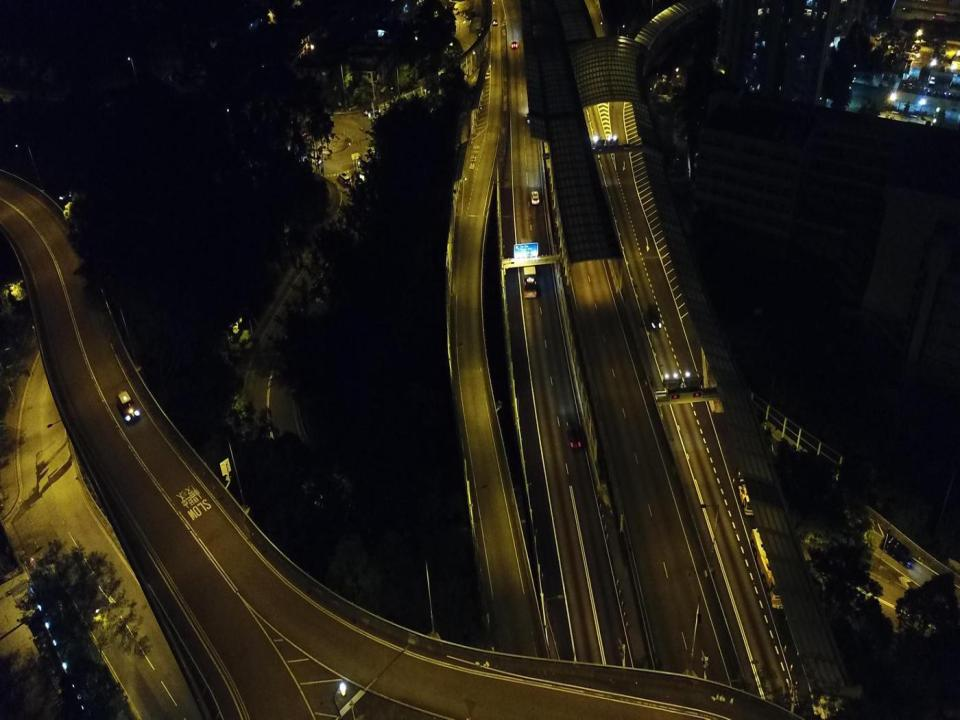bus: (519, 236, 538, 298)
car: (882, 534, 913, 568), (117, 389, 141, 423), (566, 419, 582, 450), (646, 303, 662, 331), (530, 190, 540, 206), (510, 40, 518, 50), (492, 18, 498, 26)
truck: (749, 524, 794, 610), (734, 469, 758, 515), (452, 0, 472, 16)
van: (338, 172, 350, 187)
